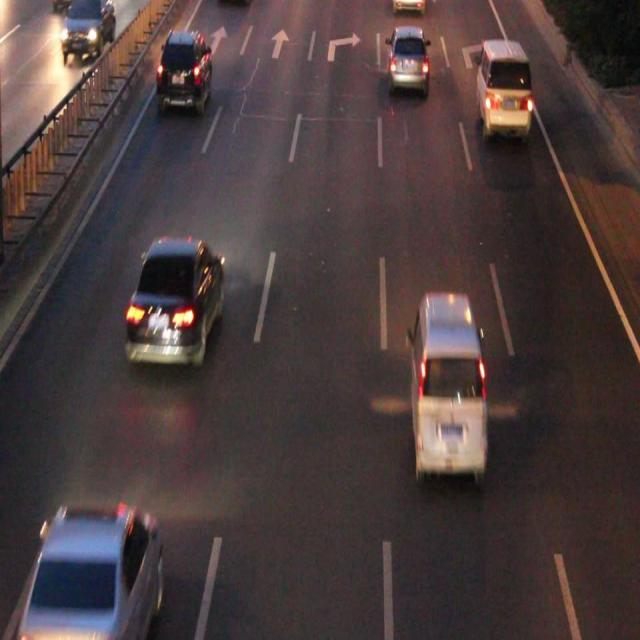car: (26, 501, 161, 640), (128, 236, 222, 364), (160, 32, 211, 108), (389, 28, 427, 89), (392, 1, 424, 12)
truck: (409, 294, 484, 475), (475, 42, 529, 129)
